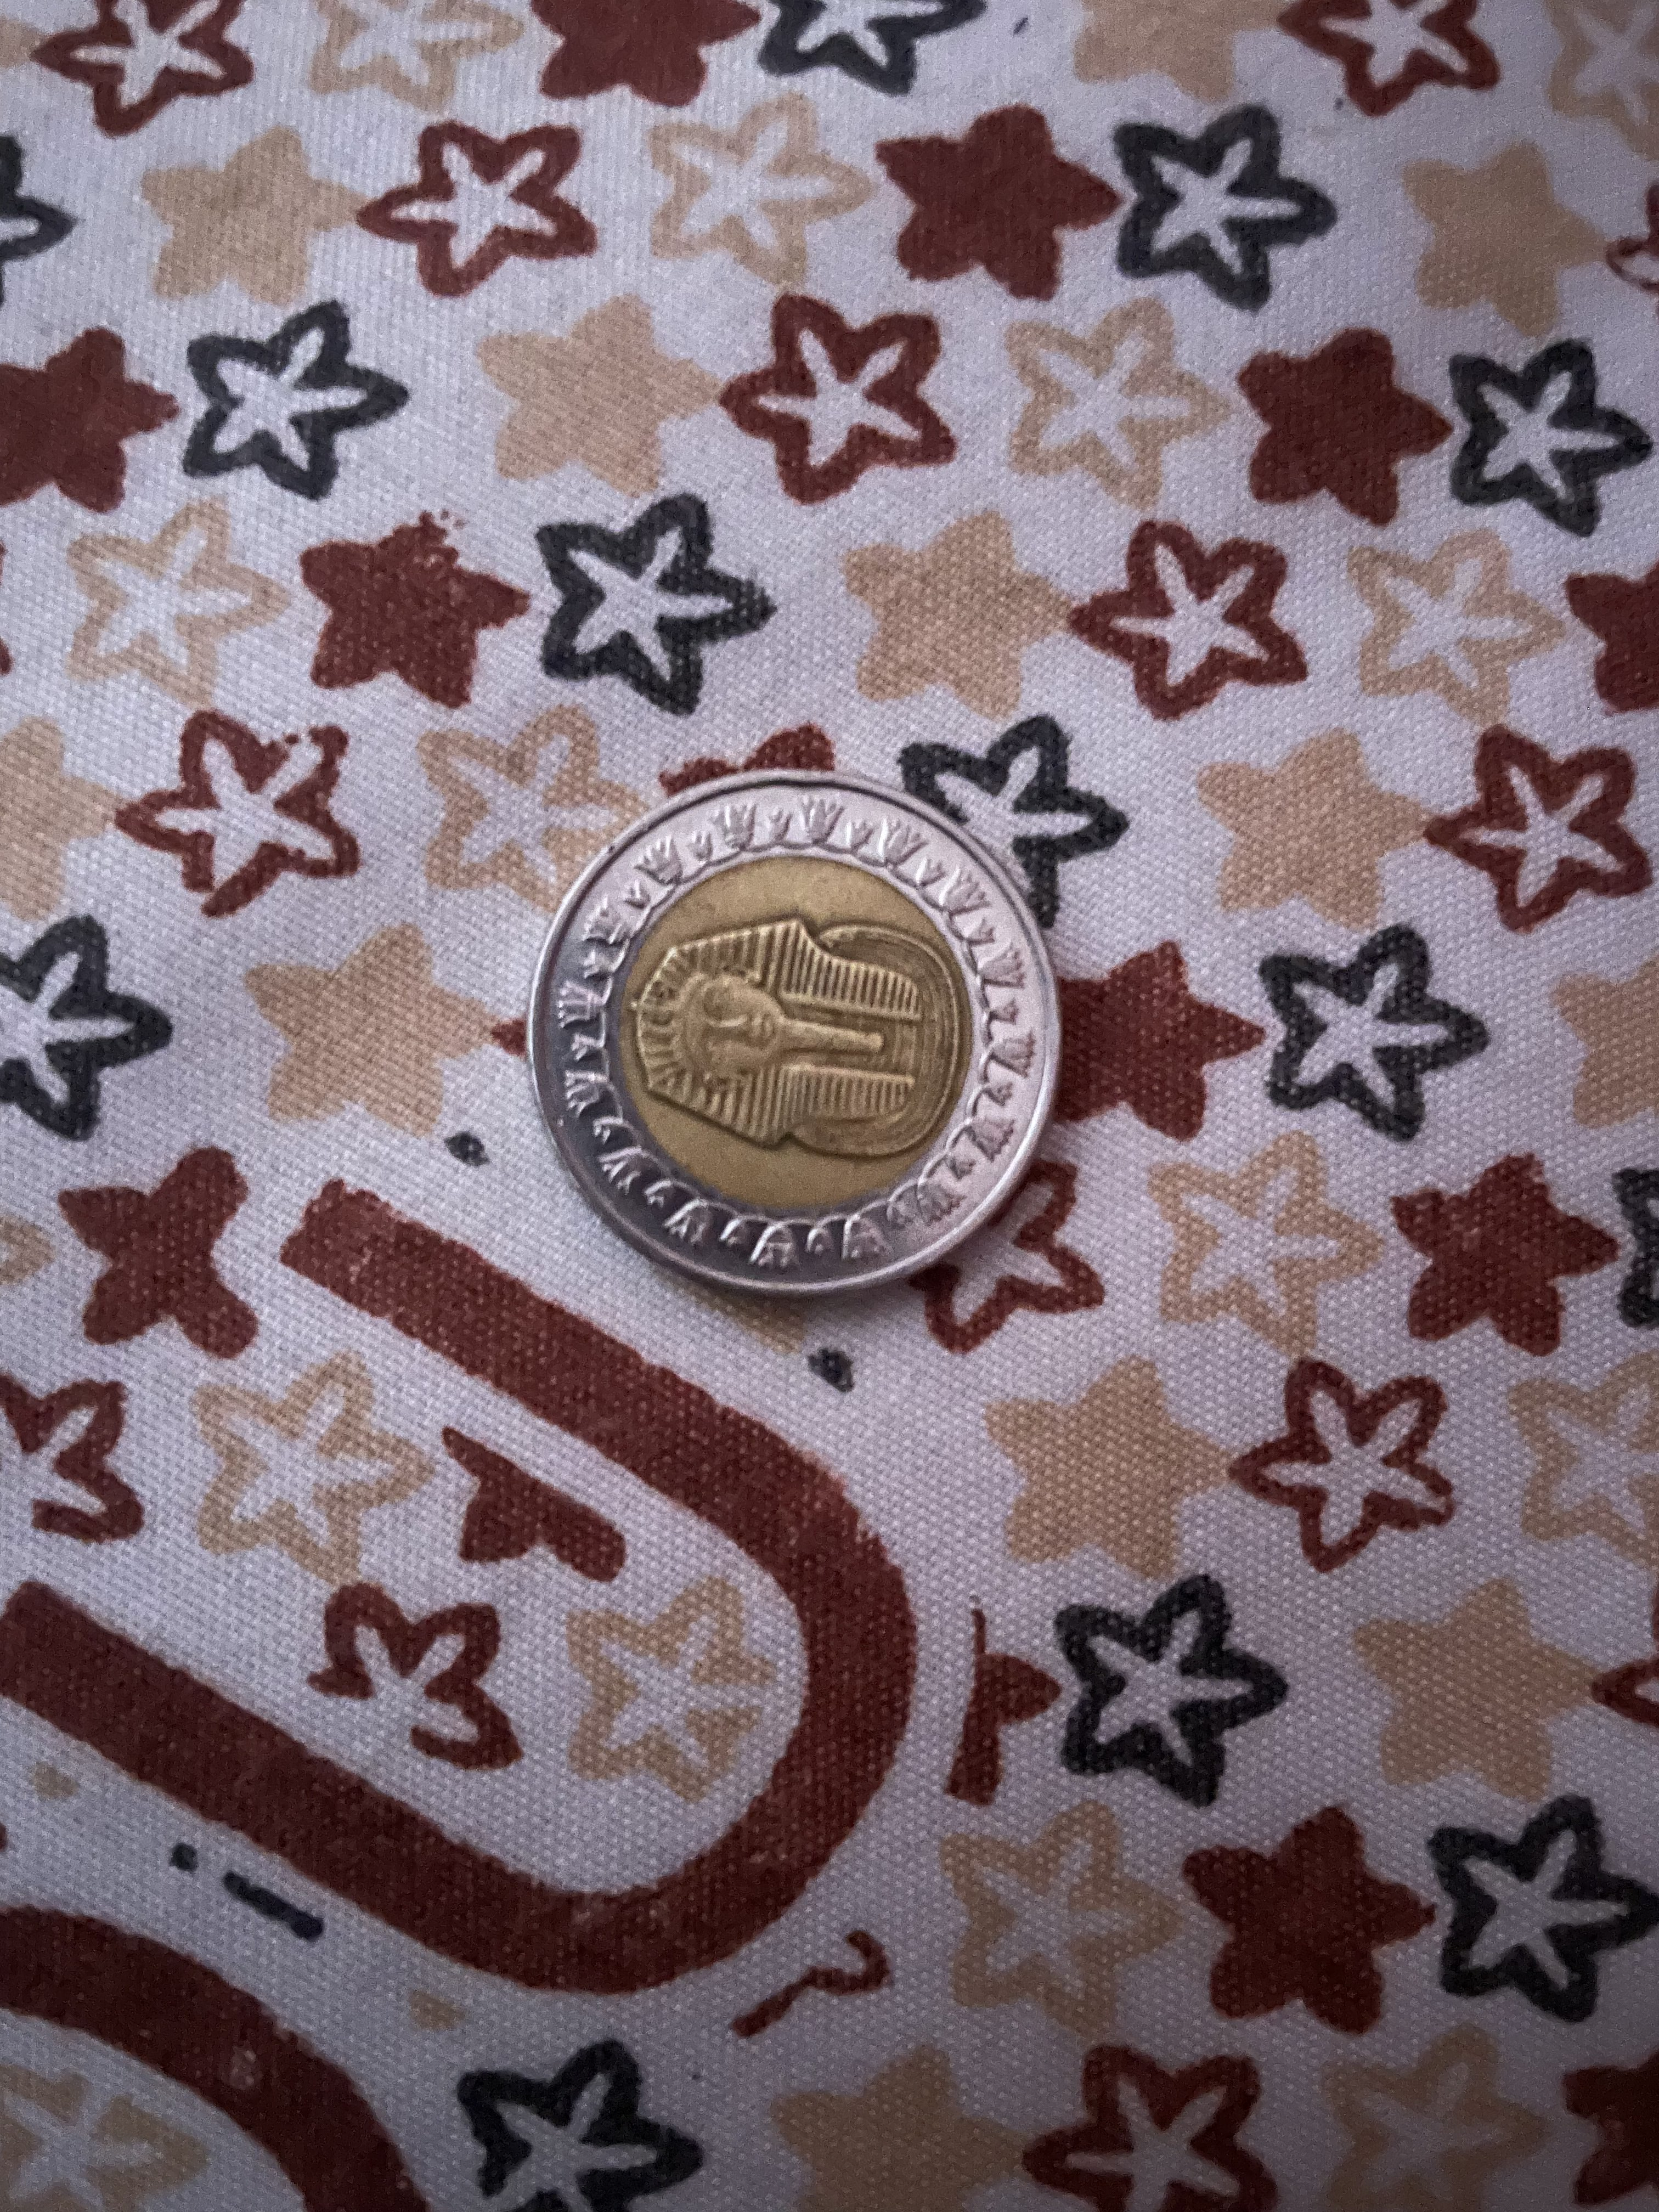one: (533, 770, 1061, 1301)
